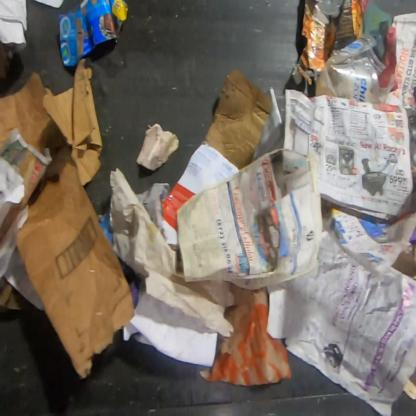cardboard: (0, 70, 134, 382), (42, 57, 104, 187), (205, 67, 273, 171), (59, 0, 131, 68)
rigid_plastic: (316, 30, 397, 102)
